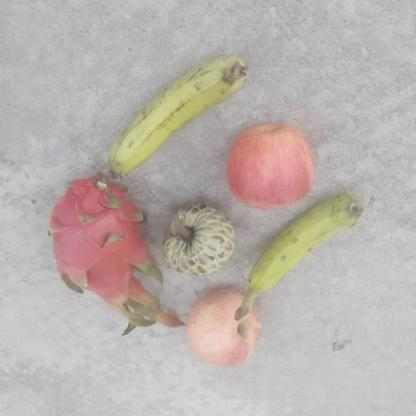annona: (160, 201, 236, 279)
apple: (222, 121, 318, 210), (185, 286, 263, 370)
banana: (105, 55, 250, 182), (233, 194, 366, 320)
pitaya: (44, 172, 152, 312)
